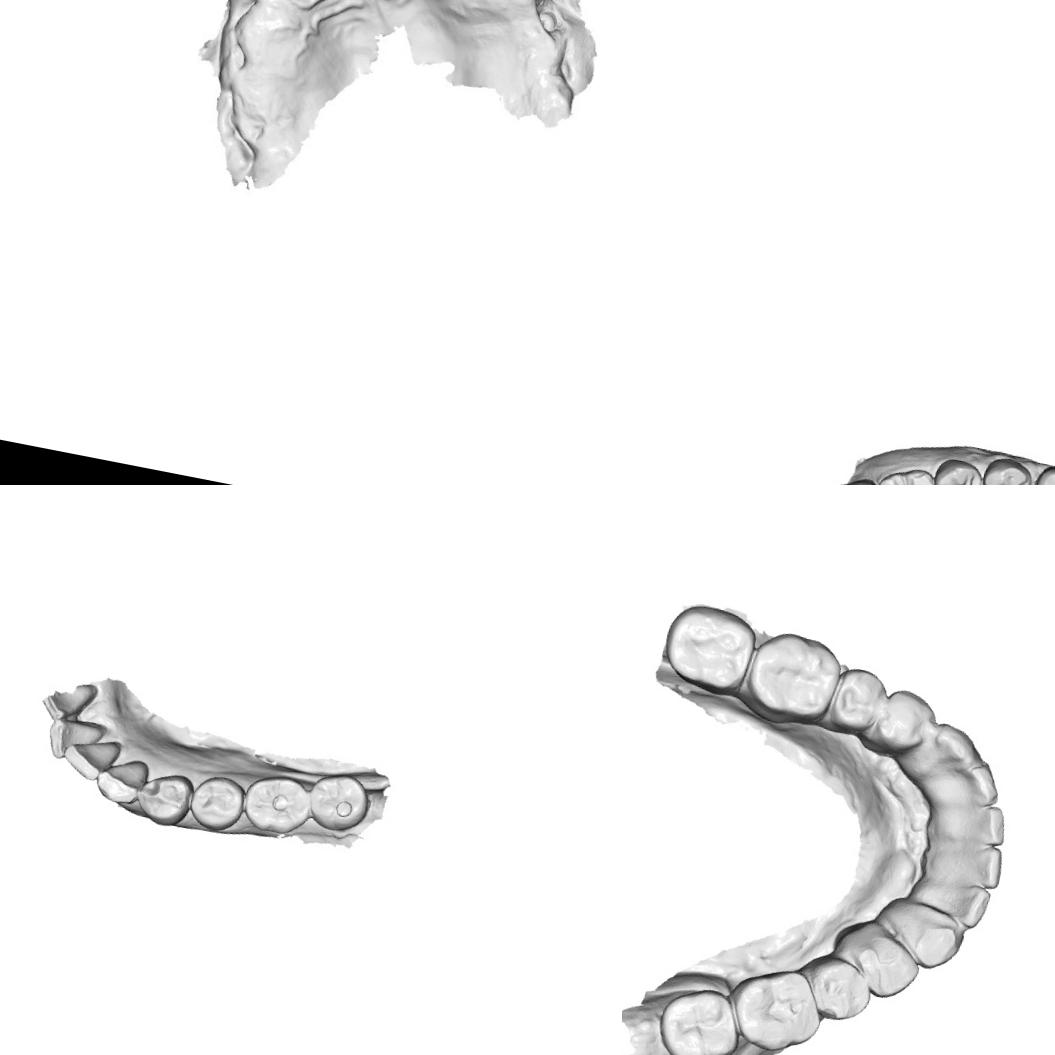canine: (873, 892, 970, 975), (918, 718, 986, 781), (92, 753, 152, 809)
incisor: (936, 833, 1006, 894), (940, 796, 1010, 853), (928, 875, 995, 932), (937, 756, 1004, 813), (58, 730, 122, 789), (44, 713, 106, 767)
molar: (721, 957, 831, 1055), (742, 626, 847, 728), (656, 598, 758, 697), (650, 979, 748, 1055), (303, 767, 376, 838), (239, 770, 311, 840), (867, 460, 944, 485)
premolar: (864, 684, 942, 764), (798, 950, 878, 1028), (820, 660, 895, 740), (852, 932, 920, 1001), (184, 769, 250, 835), (137, 768, 196, 829), (925, 454, 992, 485), (974, 452, 1036, 485)
